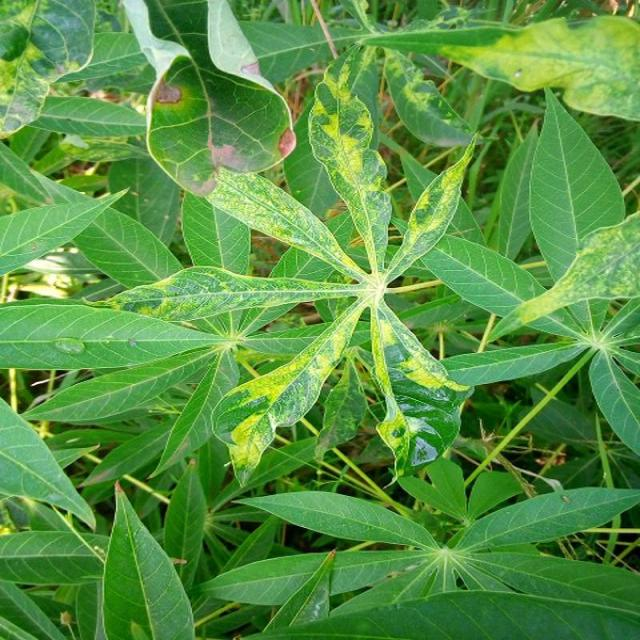cassava leaf: (121, 0, 293, 197), (526, 85, 626, 285)
